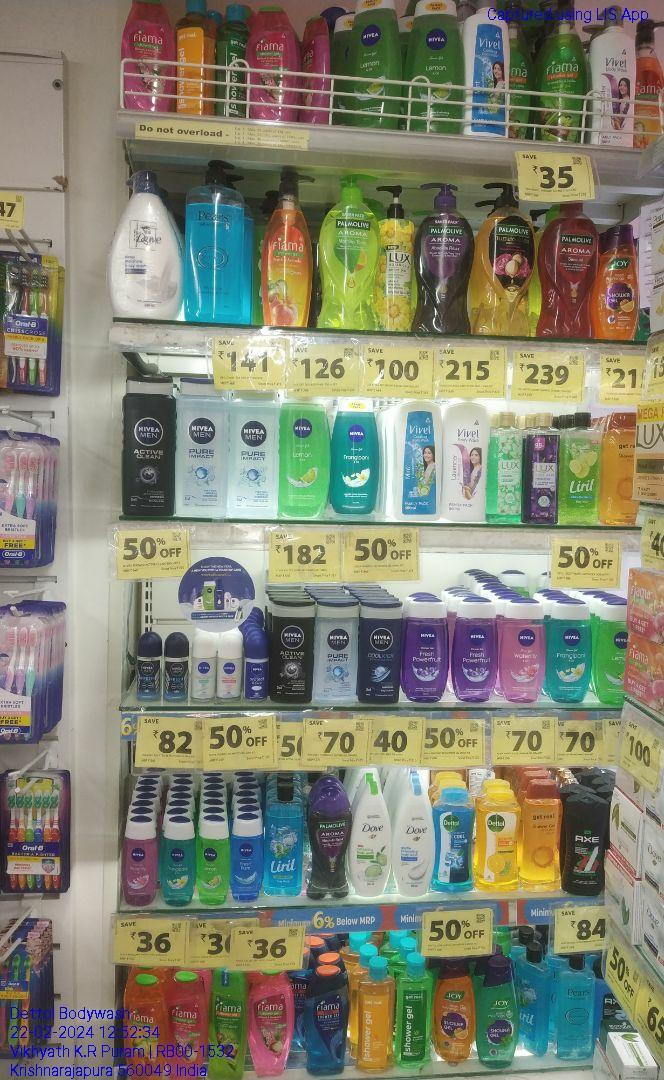Dettol_Bodywash_Cool: (435, 786, 473, 894)
Dettol_Bodywash_Refresh: (474, 785, 522, 893)
Dove_Gentle_Exfoliating_Body_Wash_250ML: (393, 783, 434, 897)
Dove_Refreshing_Body_Wash_250ML: (350, 782, 391, 896)
Fiama_Shower_Gel_Patchouli_and_Macadamia_250ML: (248, 8, 301, 121), (121, 0, 173, 114), (249, 972, 295, 1077), (168, 971, 205, 1080)
Fiama_Shower_Gel_Peach_and_Avocado_250ML: (122, 973, 166, 1080)
Get_Real_Shower_Gel_Moisturising_Glycerin_300ML: (601, 408, 637, 527), (522, 779, 560, 888)
Joy_Shower_Gel_Mandarin_and_Lemongrass_250ML: (593, 220, 639, 341), (432, 961, 475, 1067)
Joy_Shower_Gel_Mint_and_Eucalyptus_250ML: (478, 957, 519, 1069)
Liril_Cooling_Mint_Body_Wash_250ML: (265, 779, 302, 896), (520, 938, 548, 1056)
Liril_Lime_and_Tea_Tree_Oil_Body_Wash_250ML: (563, 409, 600, 529)
Lux_Black_Orchid_Scent_and_Juniper_Oil_Body_Wash_245ML: (524, 408, 561, 527)
Lux_Body_Wash_Skin_Detox_Freesia_Scent_and_Alove_Vera_245ML: (488, 410, 522, 523)
Nivea_Shower_Gel_Frangipani_and_Oil_250ML: (332, 393, 377, 513), (551, 593, 590, 703)
Nivea_Shower_Gel_Fresh_Powerfruit_250ML: (400, 595, 446, 707), (451, 596, 495, 704)
Nivea_Shower_Gel_Lemon_and_Oil_250ML: (410, 1, 465, 134), (351, 0, 402, 129), (280, 389, 331, 518), (597, 597, 628, 708)
Nivea_Shower_Gel_Waterlily_and_Oil_250ML: (501, 597, 546, 702)
Palmolive_Aroma_Relax_250ML: (306, 786, 348, 900)
Pears_Pure_Glycerin_and_Mint_Extracts_Body_Wash_250ML: (553, 953, 597, 1059)
